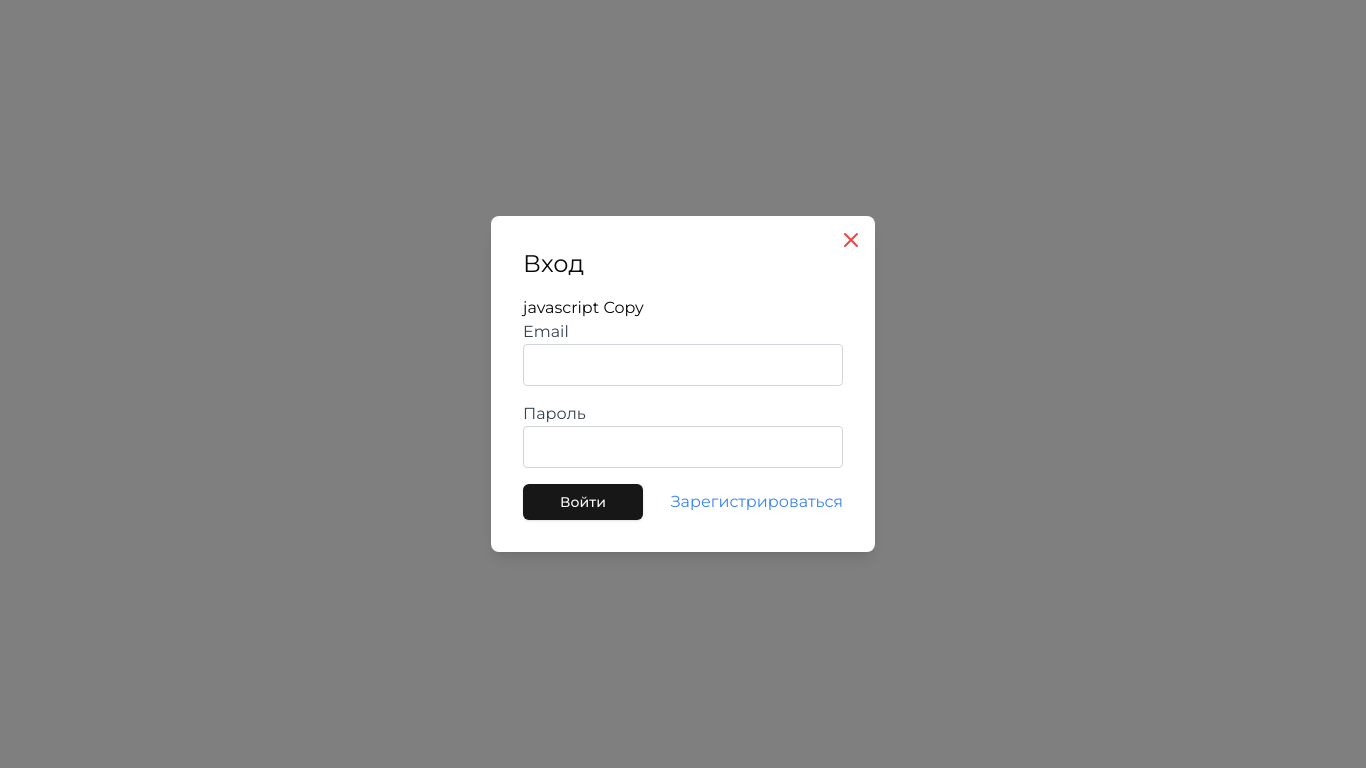
Test: AuthModal Component › Renders The Registration Form When IsLogin Is False
Click the button "Зарегистрироваться" at (757, 502), box [671,490,843,514]
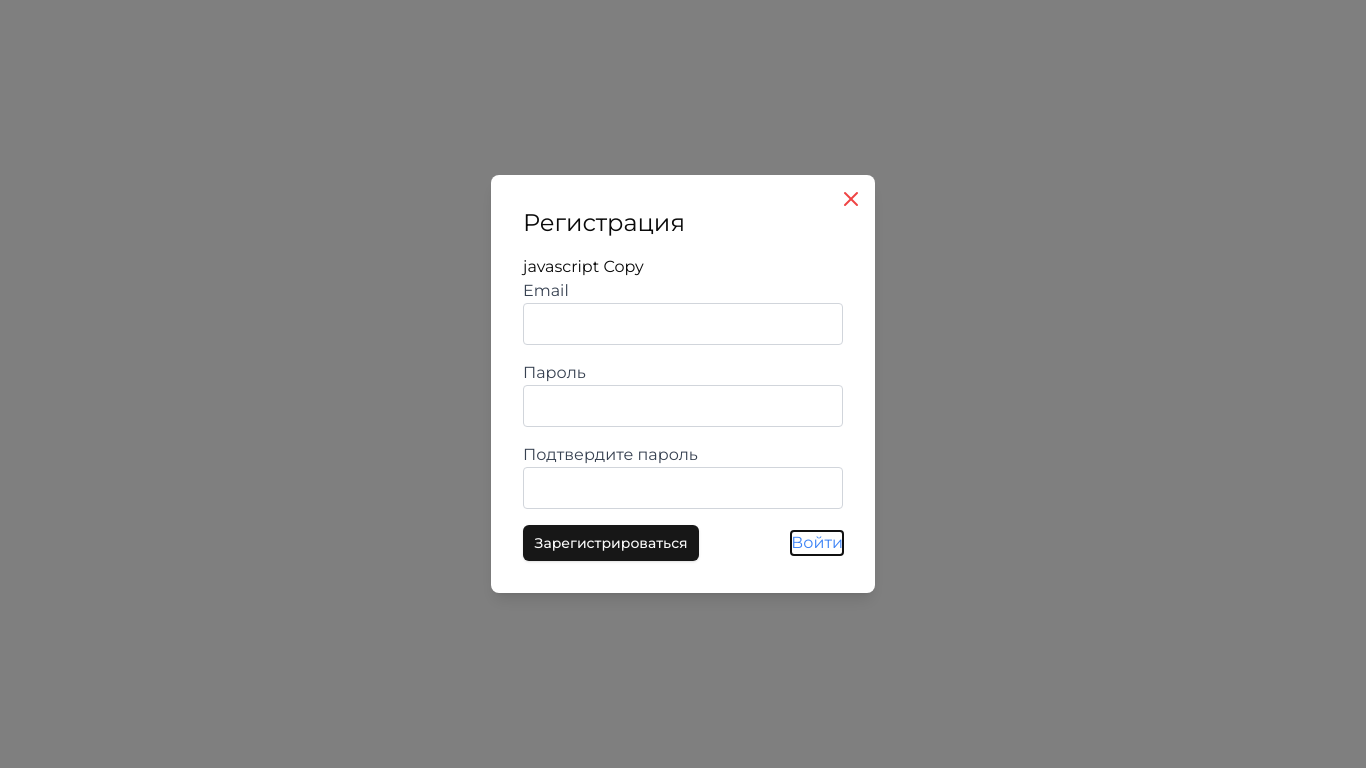
expect the heading "Регистрация" is shown: met, box [523,208,685,237]
expect the password field labelled "Подтвердите пароль" is shown: met, box [523,467,843,509]
expect the button "Войти" is shown: met, box [791,531,843,555]
